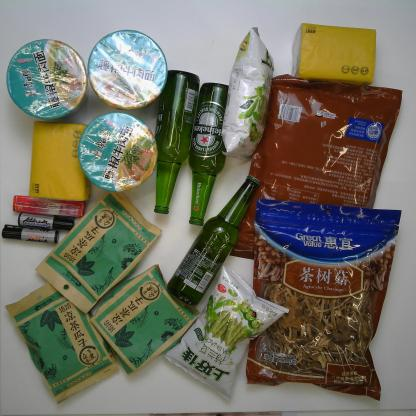Alcohol: (167, 173, 265, 308), (149, 63, 202, 215), (186, 74, 230, 230)
Candy: (12, 194, 87, 218)
Dried Food: (243, 196, 407, 401), (228, 79, 403, 263), (31, 188, 163, 314), (6, 284, 122, 402), (85, 261, 199, 375)
Instant Noodles: (5, 33, 90, 122), (85, 27, 172, 113), (75, 110, 161, 194)
Puffed Food: (162, 265, 294, 404), (220, 31, 277, 165)
Stationery: (1, 223, 61, 246), (16, 211, 75, 231)
Tissue: (291, 19, 381, 87), (27, 119, 93, 202)
